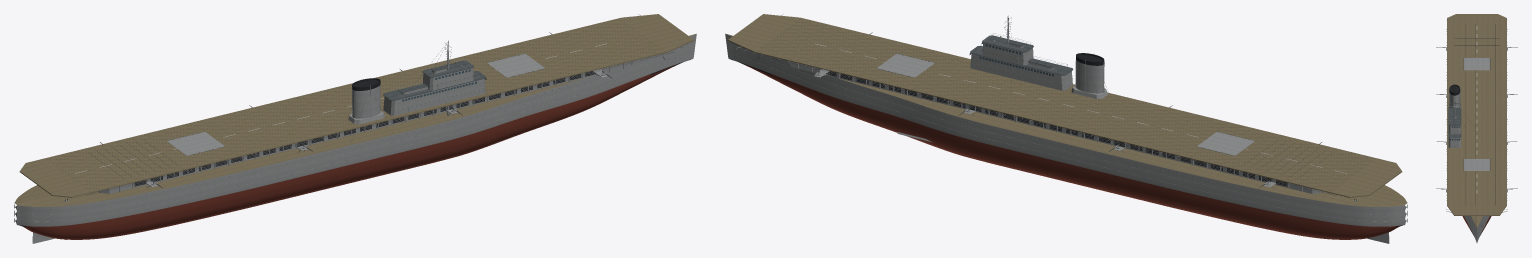
File: mare_cv32.glb
3 renders of one model, left to right at view 1: azimuth 30°, elevation 25°; view 2: azimuth 150°, elevation 25°; view 3: azimuth 270°, elevation 25°, orthographic. The views are drawn at different scales.
Parts seen in each view (by area): view 1: Sparviero fleet carrier; view 2: Sparviero fleet carrier; view 3: Sparviero fleet carrier.
Part boxes in pixels (x1,y1,x2,y2): Sparviero fleet carrier: [14, 14, 696, 243]; Sparviero fleet carrier: [725, 14, 1407, 243]; Sparviero fleet carrier: [1436, 14, 1517, 242].
Size of the model in its own units: 220 by 37.24 by 35.46.
9 materials, 8 textured.
